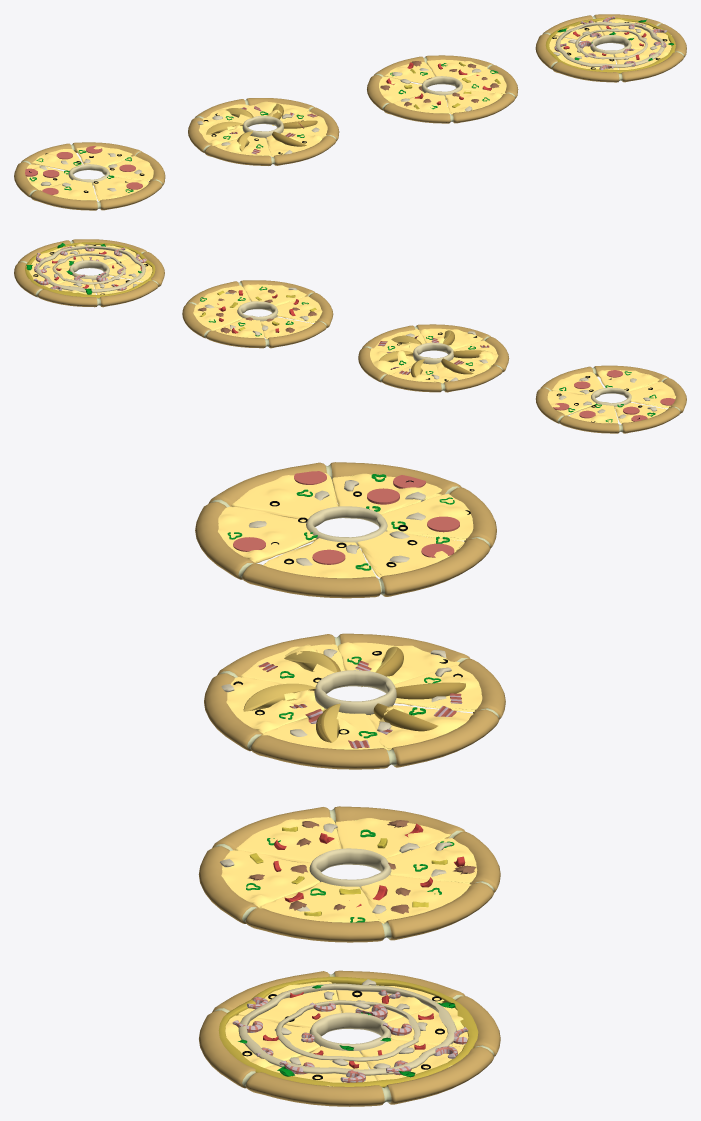
Rendered from Pizza Combination,Cheese,Potato,Bulgogi.fbx.
3 views of the same model, one above another, from view 1: azimuth 30°, elevation 25°; view 2: azimuth 150°, elevation 25°; view 3: azimuth 270°, elevation 25° (orthographic). The views are drawn at different scales.
Visible parts, largest first — view 1: Cube.018, Cube.044, Cube.004, Cube.000; view 2: Cube.004, Cube.018, Cube.044, Cube.000; view 3: Cube.018, Cube.044, Cube.004, Cube.000.
Boxes of the visible parts, left/top/right/bottom form: Cube.018: left=367, top=55, right=518, bottom=123; Cube.044: left=535, top=14, right=686, bottom=82; Cube.004: left=188, top=98, right=339, bottom=165; Cube.000: left=14, top=142, right=165, bottom=210; Cube.004: left=358, top=324, right=509, bottom=392; Cube.018: left=182, top=280, right=333, bottom=348; Cube.044: left=14, top=239, right=164, bottom=307; Cube.000: left=535, top=365, right=686, bottom=433; Cube.018: left=198, top=806, right=500, bottom=942; Cube.044: left=199, top=970, right=500, bottom=1106; Cube.004: left=204, top=633, right=505, bottom=769; Cube.000: left=195, top=462, right=496, bottom=598.
Size of the model in its own units: 1412 by 30.74 by 291.
